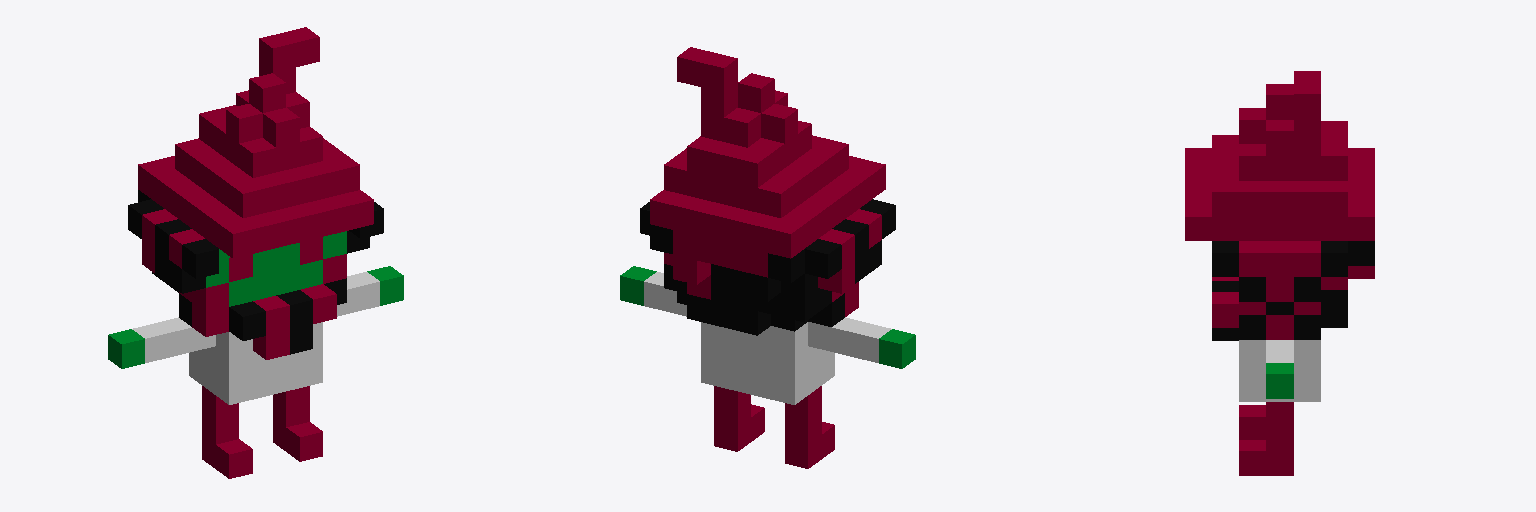
3 views of the same model, side by side, from view 1: azimuth 30°, elevation 25°; view 2: azimuth 150°, elevation 25°; view 3: azimuth 270°, elevation 25° (orthographic).
Parts seen in each view (by area): view 1: object 1; view 2: object 1; view 3: object 1.
Part boxes in pixels (x1,y1,x2,y2): object 1: (108,27,403,478); object 1: (620,47,915,468); object 1: (1185,71,1374,475).
Bounding box in the file's own units: 1.2 × 1.6 × 0.7.
1 materials, 1 textured.